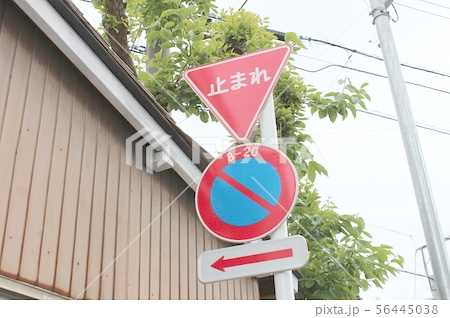Prohibition_sign: (192, 137, 308, 250)
